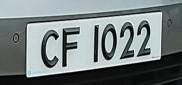0: (100, 21, 120, 63)
1: (86, 22, 100, 68)
2: (118, 18, 135, 62), (136, 15, 152, 60)
C: (37, 24, 61, 73)
F: (59, 23, 83, 73)
